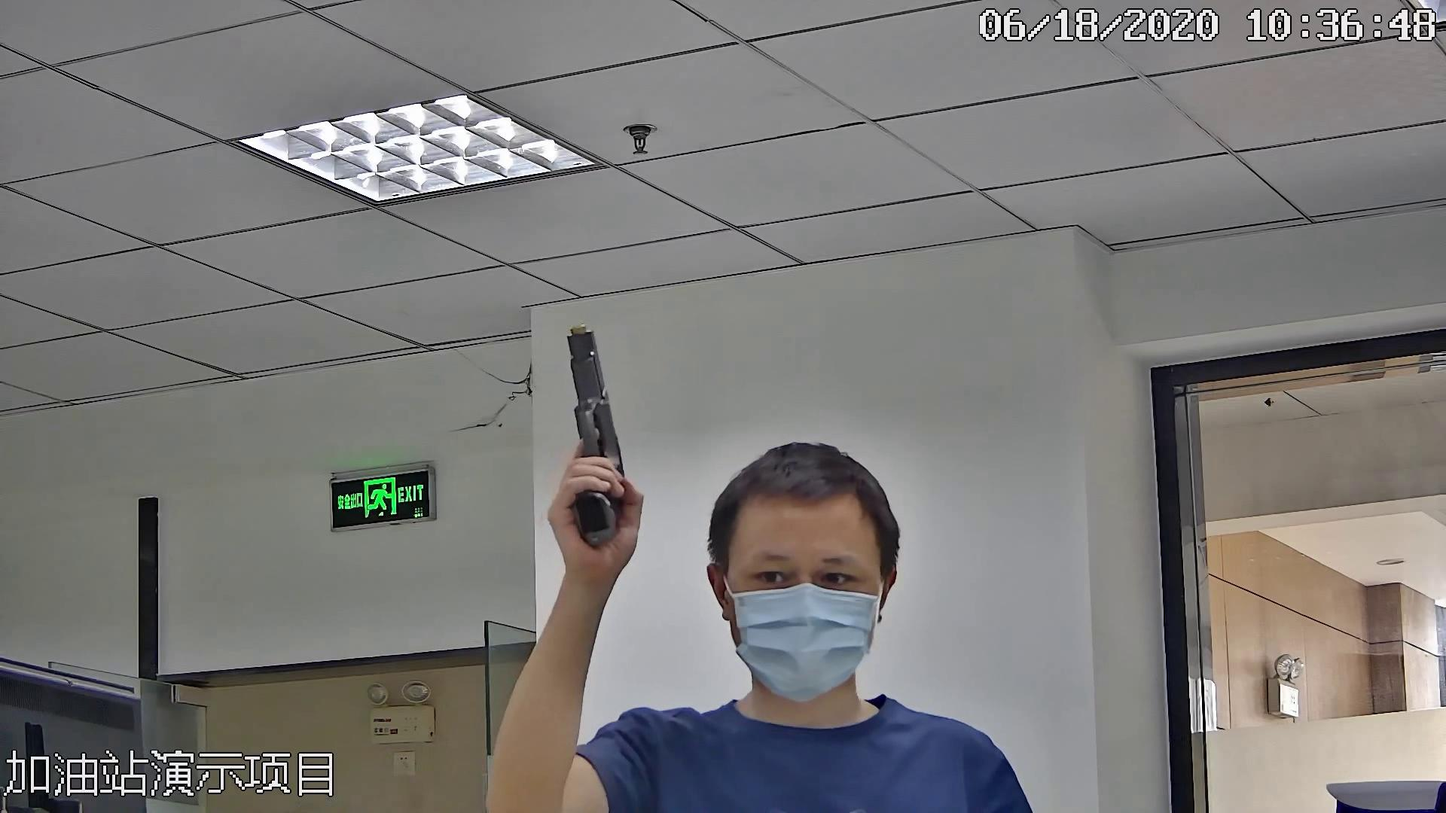gun: (533, 335, 645, 550)
